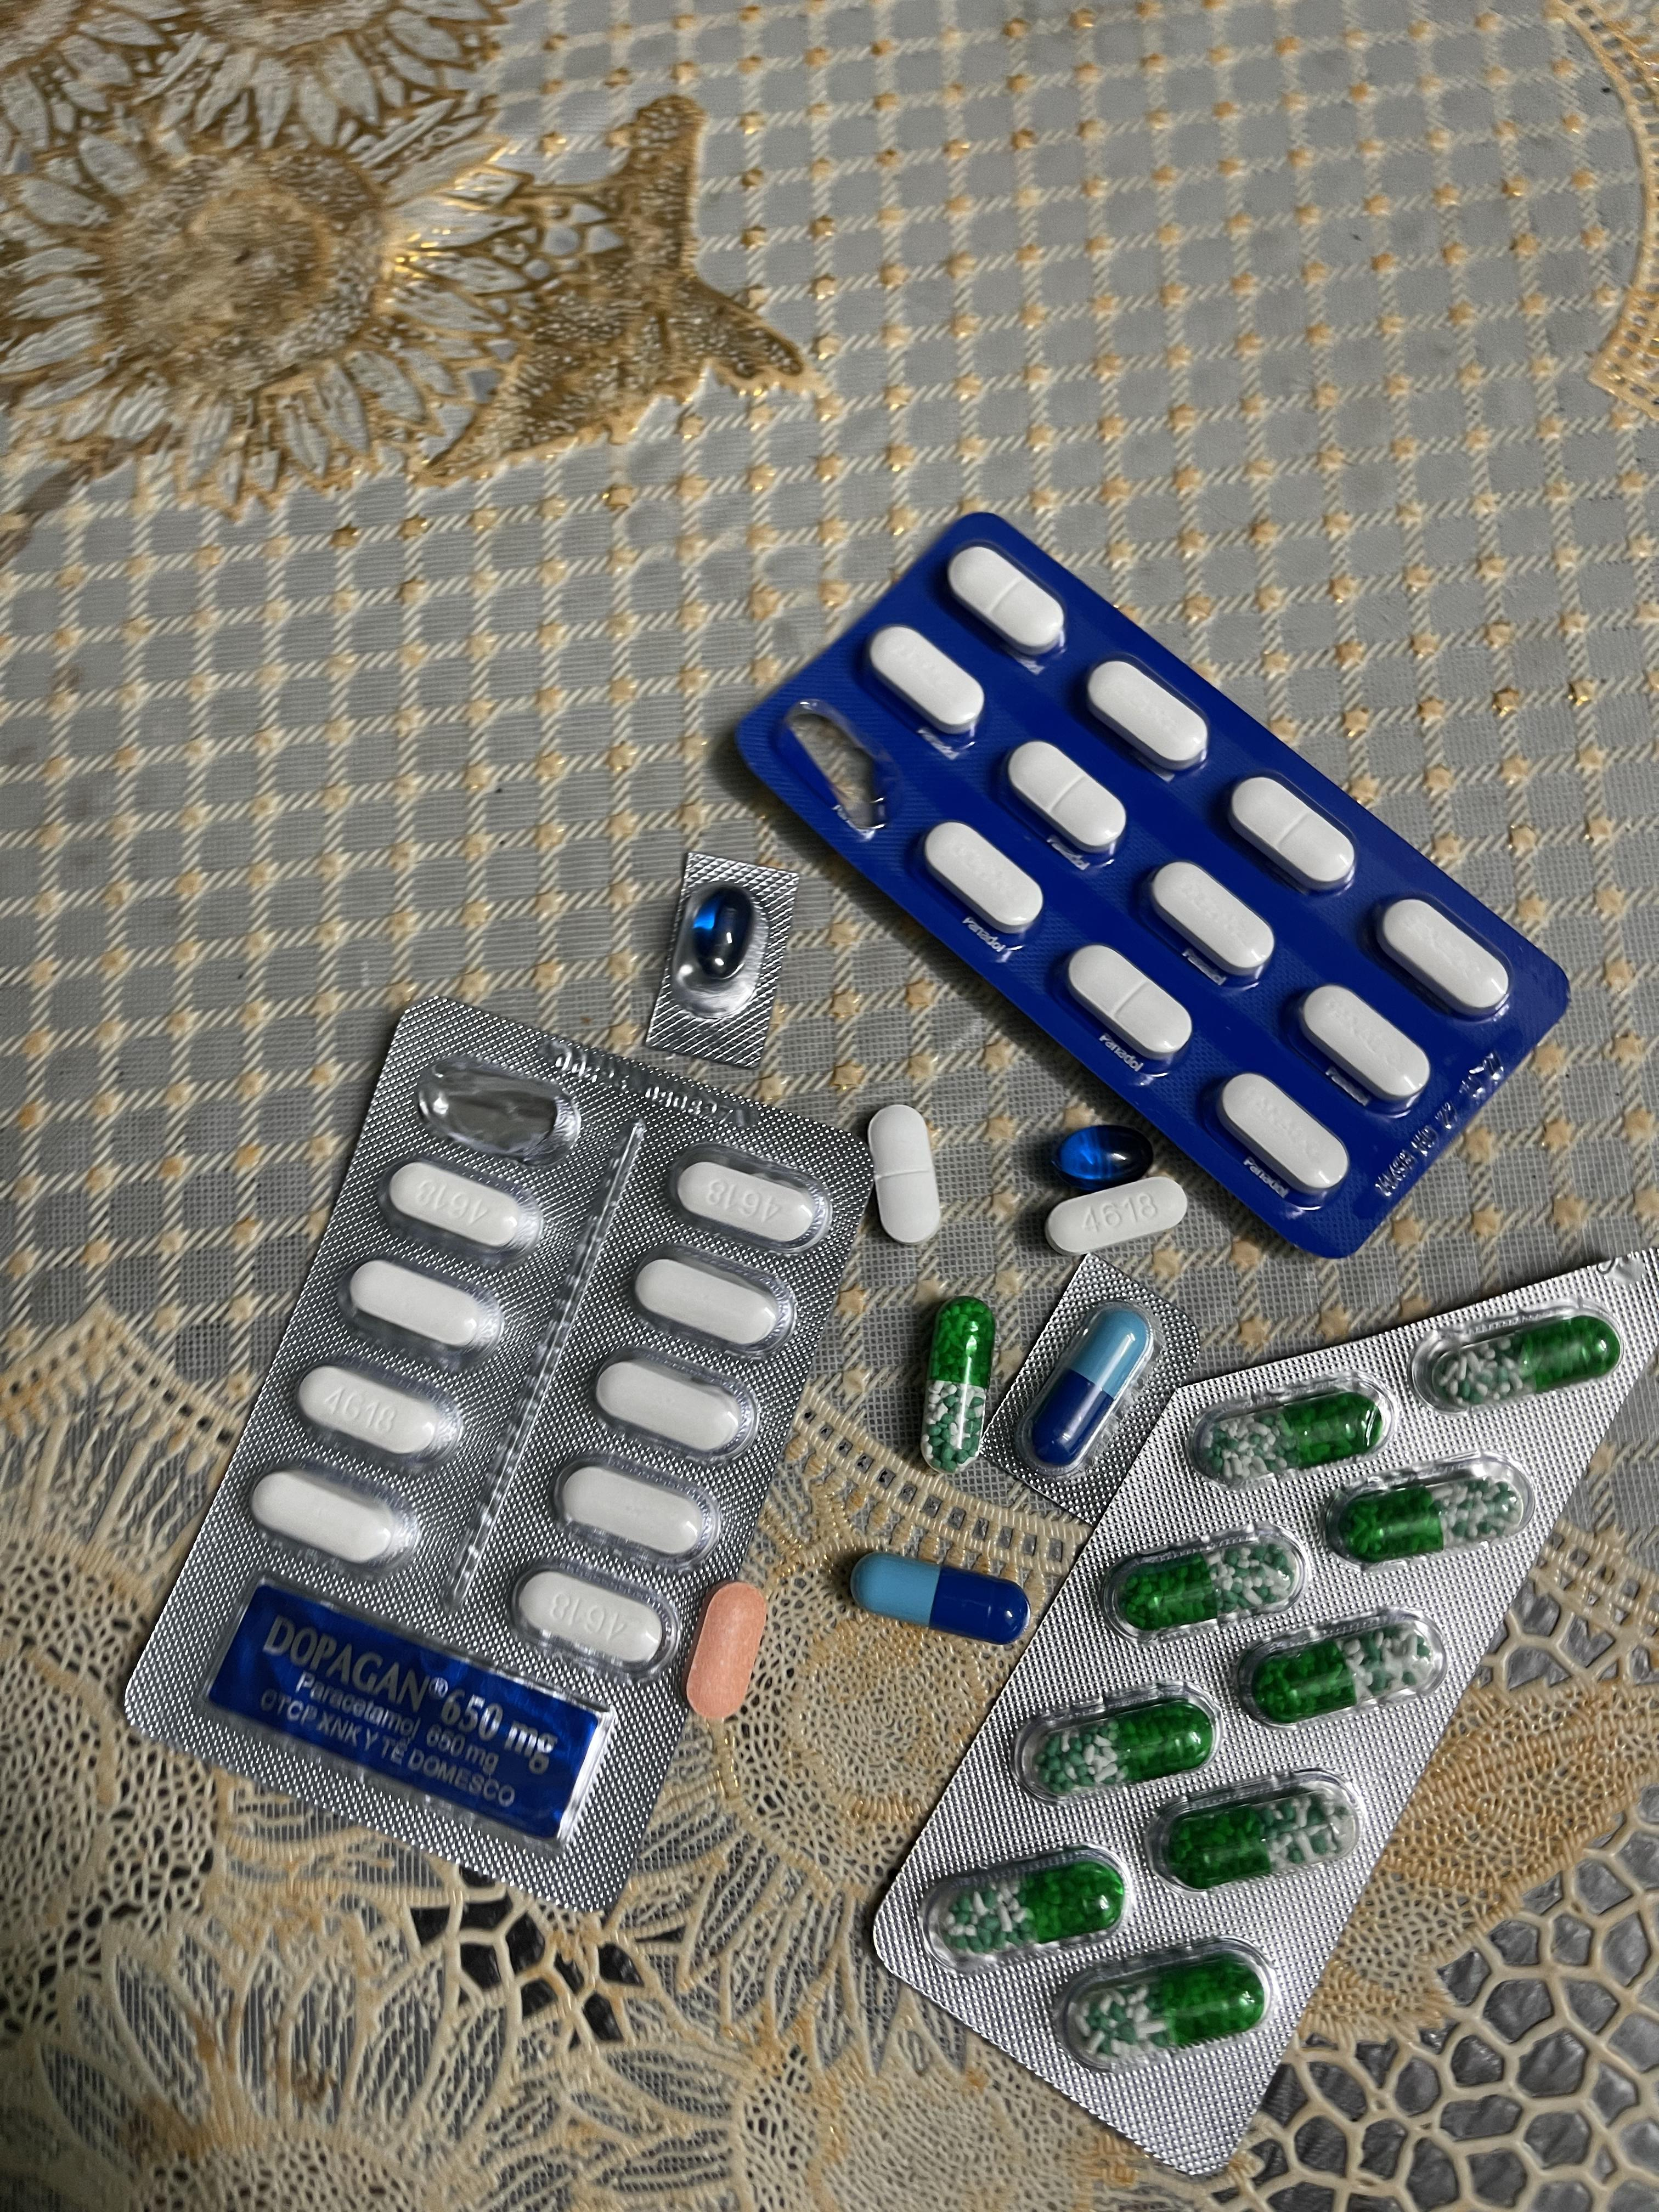Lincomyxin_500mg: (1053, 1122, 1155, 1183), (687, 892, 751, 982)
Loratadine_10mg: (685, 1581, 765, 1721)
Paracetamol_350mg: (1375, 897, 1514, 1019), (1297, 986, 1432, 1104), (1143, 862, 1274, 981), (1229, 775, 1358, 894), (1216, 1076, 1349, 1191), (1084, 658, 1209, 775), (1065, 944, 1188, 1061), (922, 820, 1044, 935), (948, 543, 1068, 658), (1004, 742, 1124, 857), (868, 624, 985, 738), (866, 1103, 938, 1242)
Paracetamol_500mg: (516, 1568, 669, 1669), (251, 1470, 410, 1566), (298, 1364, 451, 1460), (558, 1463, 716, 1555), (387, 1162, 544, 1252), (596, 1359, 749, 1451), (634, 1259, 786, 1352), (350, 1261, 504, 1352), (674, 1158, 821, 1244), (1046, 1177, 1185, 1256)
Paracetamol_650mg: (1056, 1937, 1265, 2067), (1150, 1771, 1361, 1892), (927, 1844, 1126, 1970), (1410, 1301, 1622, 1413), (1234, 1615, 1443, 1726), (1016, 1686, 1204, 1803), (1105, 1529, 1302, 1641), (1194, 1372, 1391, 1484), (1326, 1460, 1530, 1566), (922, 1301, 995, 1470)
pill: (1025, 1305, 1157, 1472), (852, 1552, 1025, 1644)
